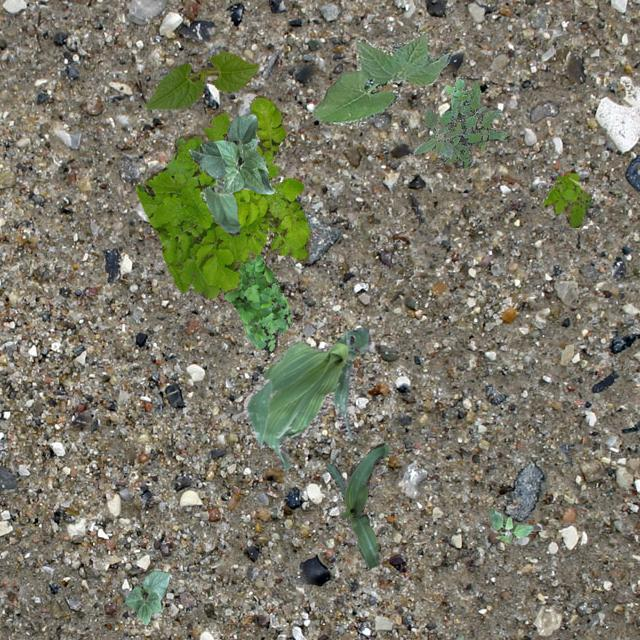crop: (240, 326, 370, 469), (310, 30, 450, 124), (324, 442, 388, 568), (188, 114, 274, 192), (144, 51, 258, 108), (122, 570, 168, 624), (202, 178, 240, 235)
weed: (136, 95, 310, 298), (222, 252, 290, 352), (438, 75, 508, 168), (542, 172, 590, 226), (412, 108, 462, 158), (488, 506, 532, 542)
